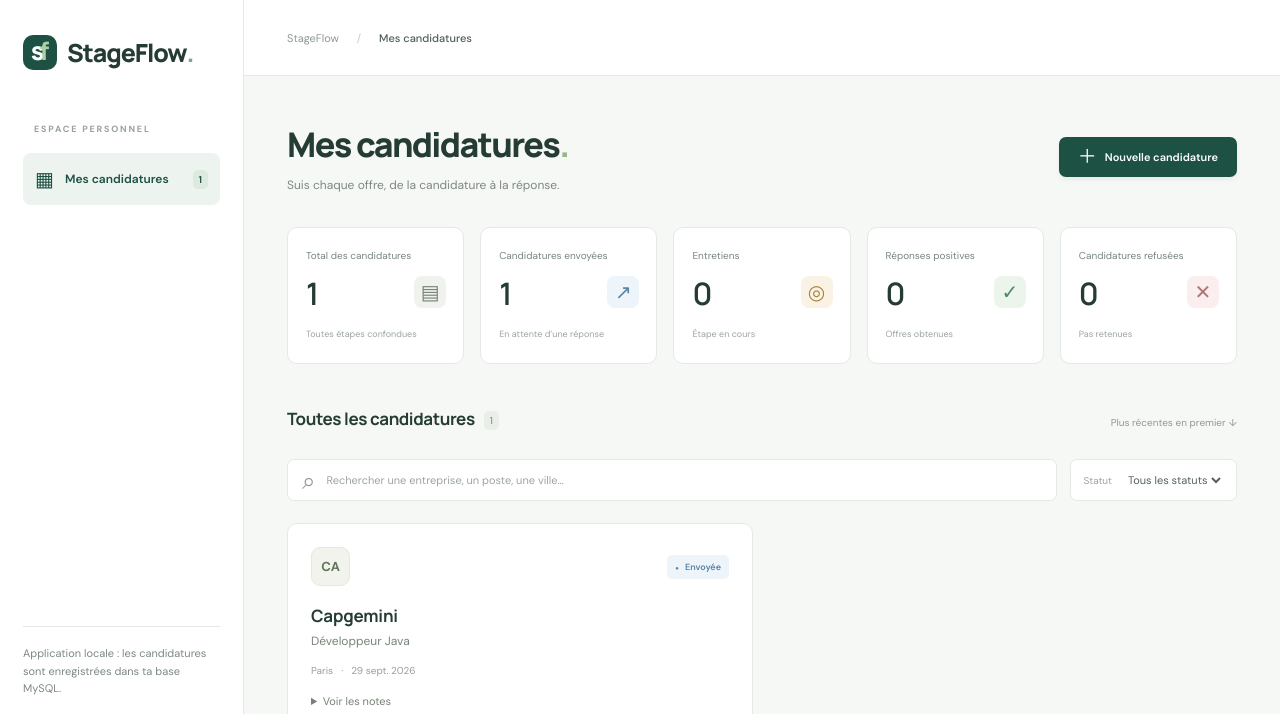
Test: affiche les candidatures et filtre la liste
Expected: the heading "Capgemini" is shown, [311, 604, 398, 627]
Type "inconnue" into the field named "Rechercher" at (684, 480), box [326, 460, 1042, 500]
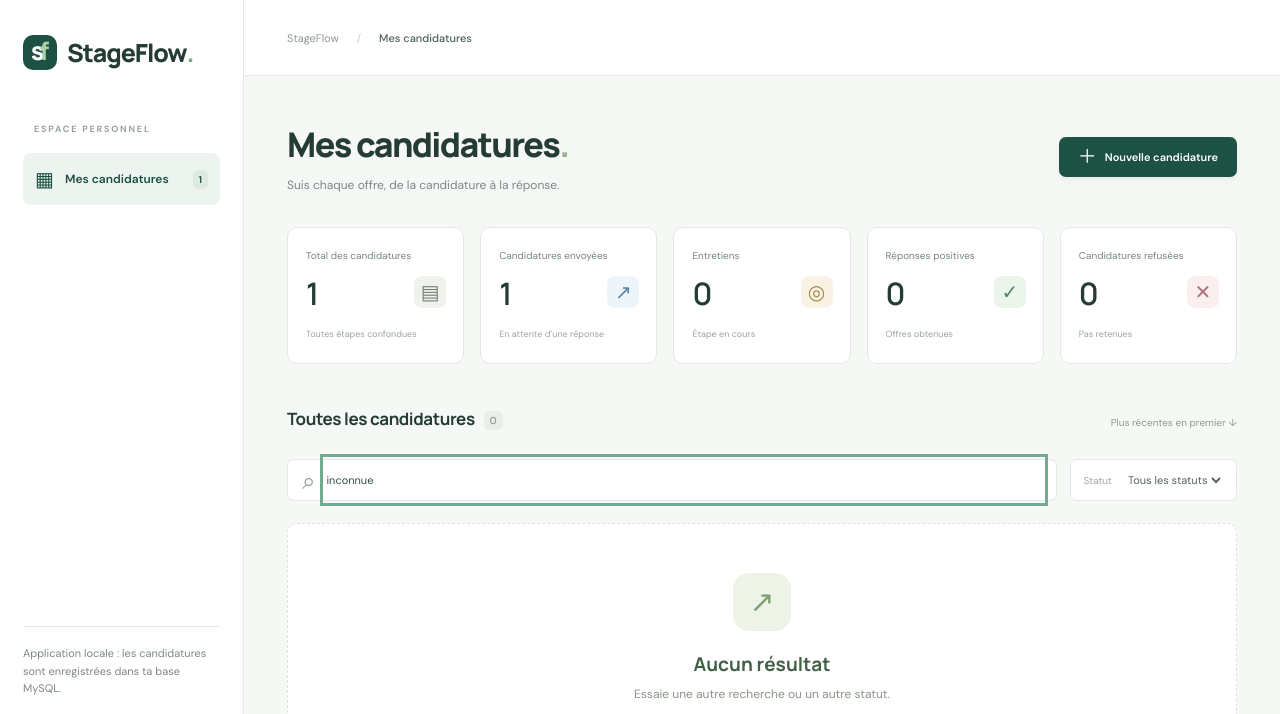
Result: the heading "Capgemini" is gone
Result: the heading "Aucun résultat" is shown at [694, 650, 831, 676]
Clear the field named "Rechercher" at (684, 480), box [326, 460, 1042, 500]
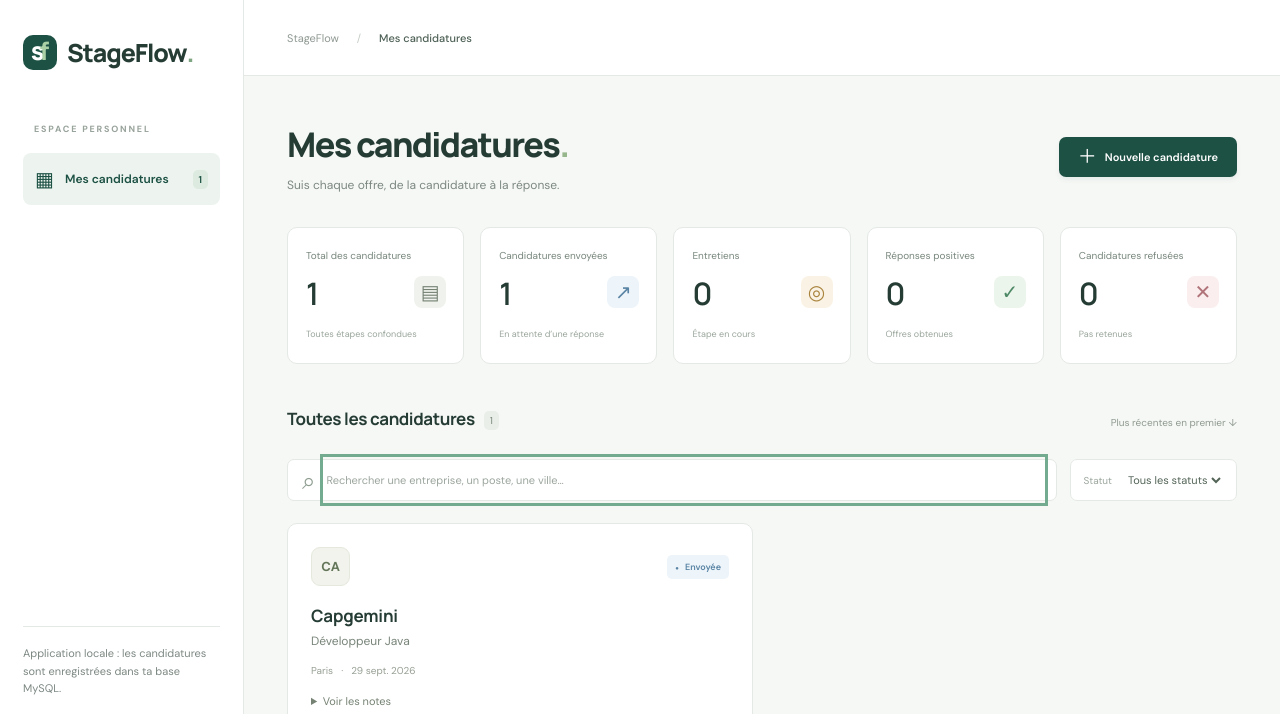
Select "Entretien" in the dropdown named "Filtrer par statut" at (1174, 480), box [1124, 462, 1224, 498]
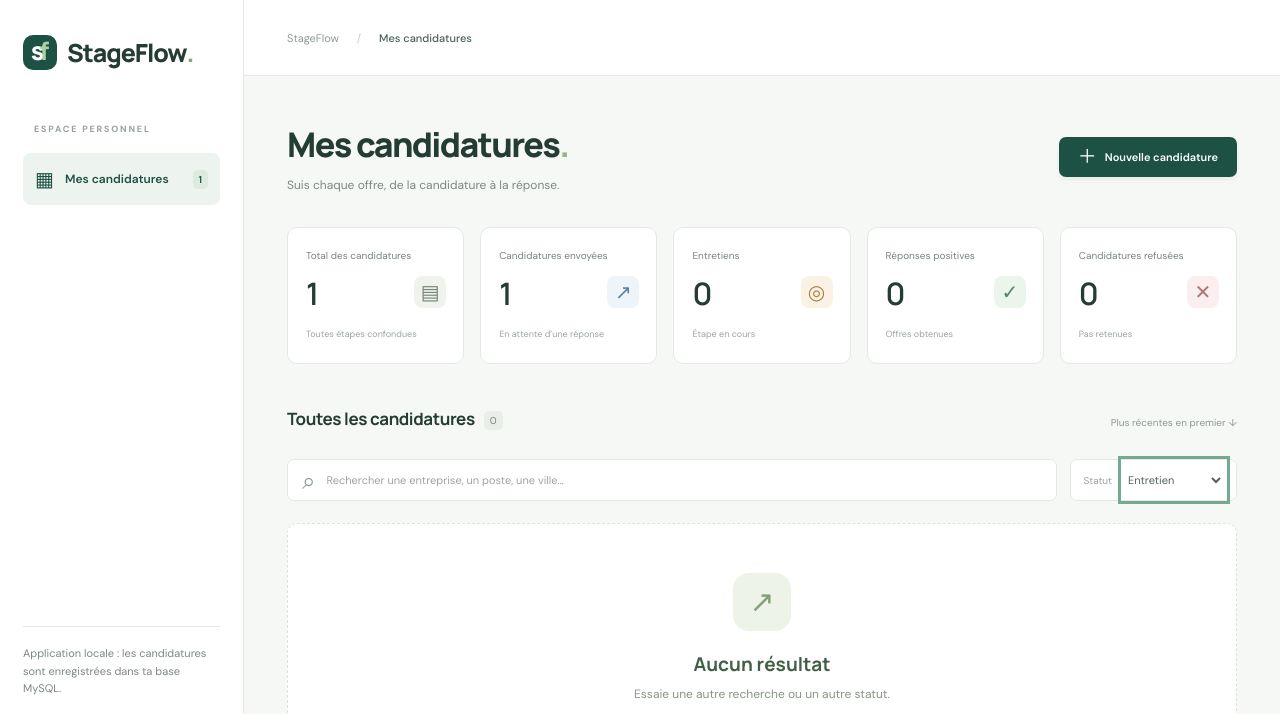
Result: the heading "Capgemini" is gone
